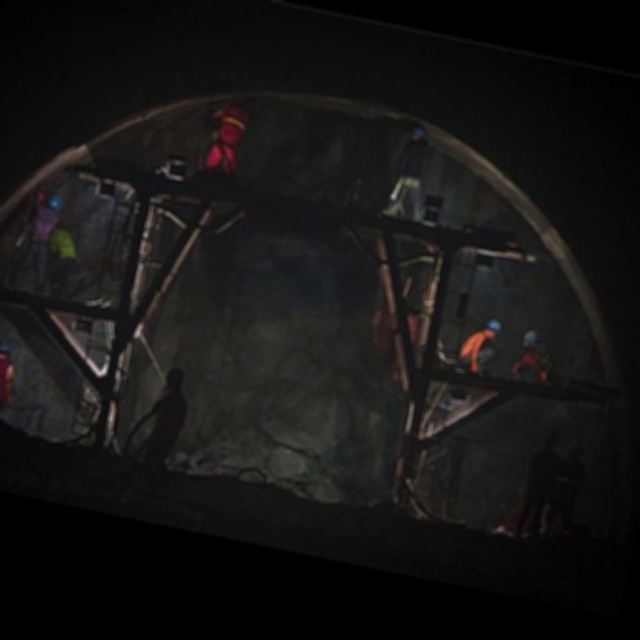Con_Chaleco: (214, 103, 252, 144)
Sin_Chaleco: (398, 138, 429, 180)
